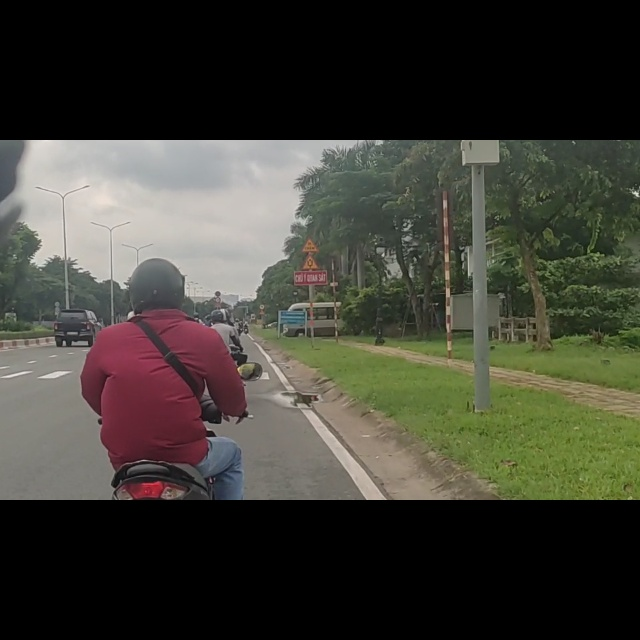bien_cam: (301, 204, 321, 231), (301, 173, 319, 201), (215, 268, 221, 279)
